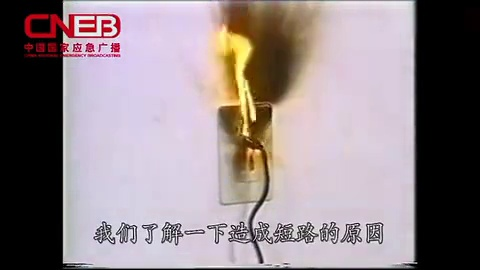fire: (208, 19, 260, 146)
